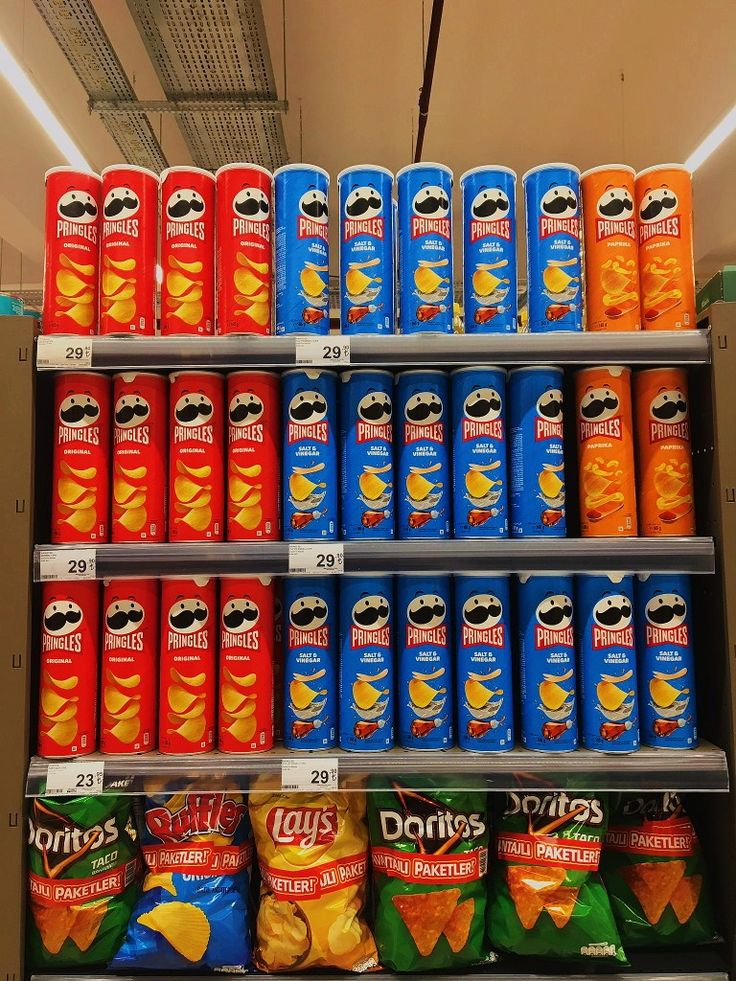Doritos: (375, 787, 501, 949)
Lays: (235, 768, 375, 972)
Pringles: (268, 358, 356, 560)
